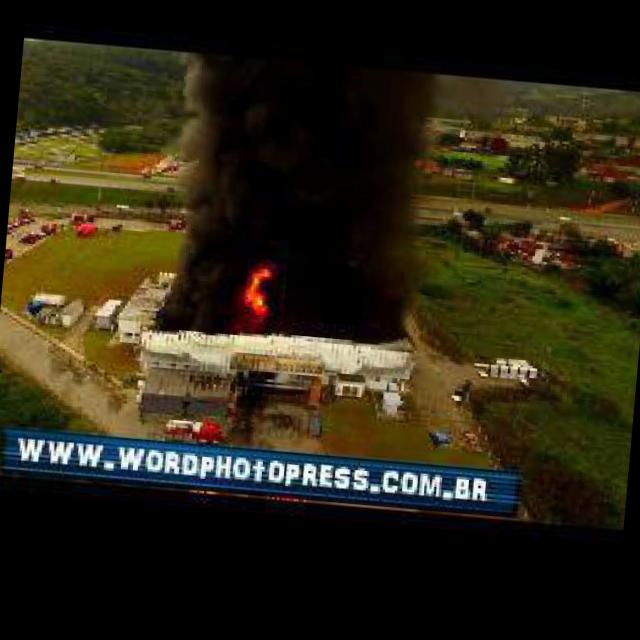fire: (240, 257, 278, 321)
smoke: (142, 41, 451, 357)
